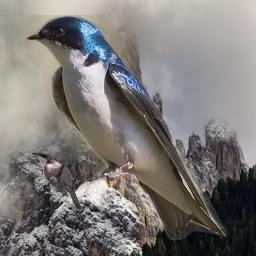Cuckoo: (30, 149, 82, 211)
Swallow: (25, 15, 227, 240)
